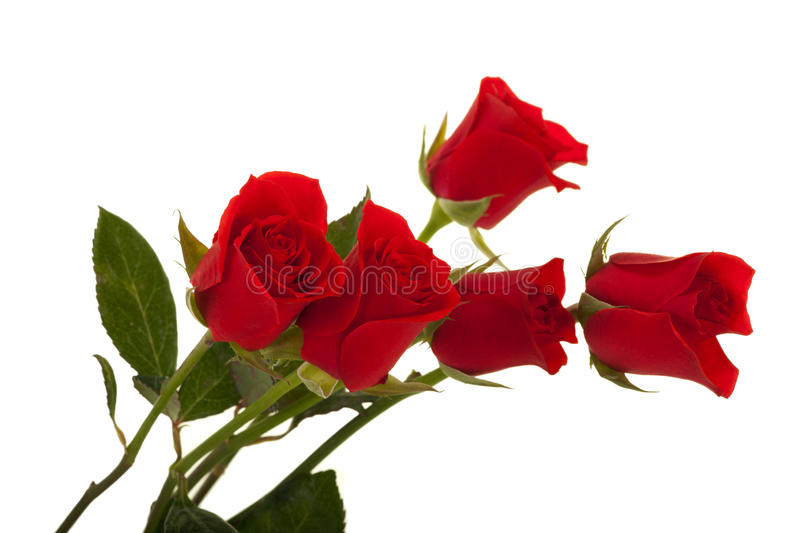RedRose: (575, 235, 744, 389), (416, 98, 559, 213), (214, 184, 322, 332), (325, 203, 413, 373), (450, 267, 571, 374)
